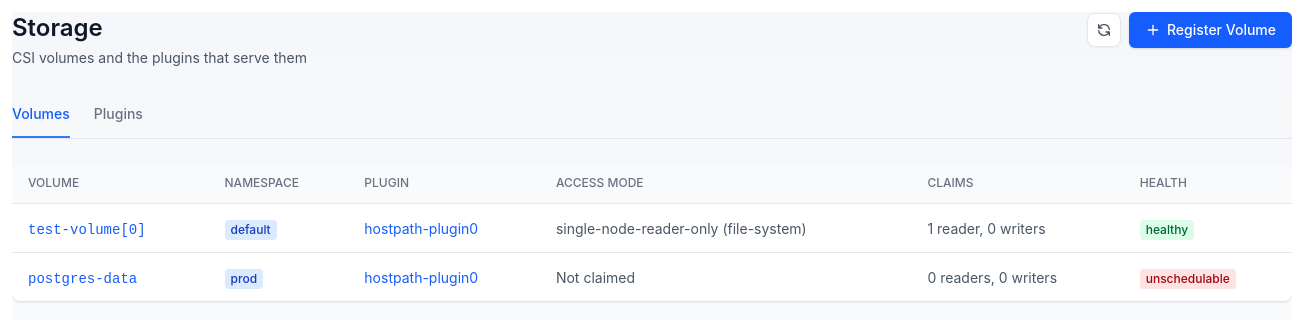
Test: StoragePage plugins › switches between the tabs
The image size is (1304, 320).
Click the tab "Plugins".
click(118, 115)  # box [94,92,143,138]
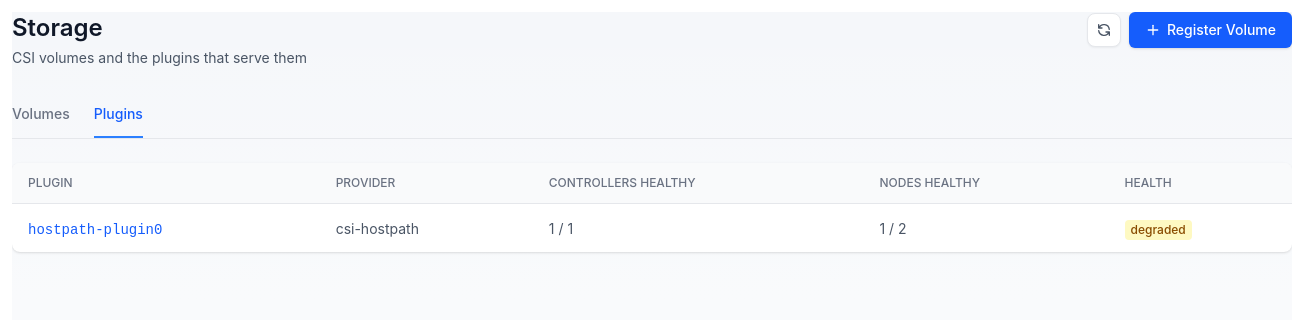
Check: the link "test-volume[0]" is gone
